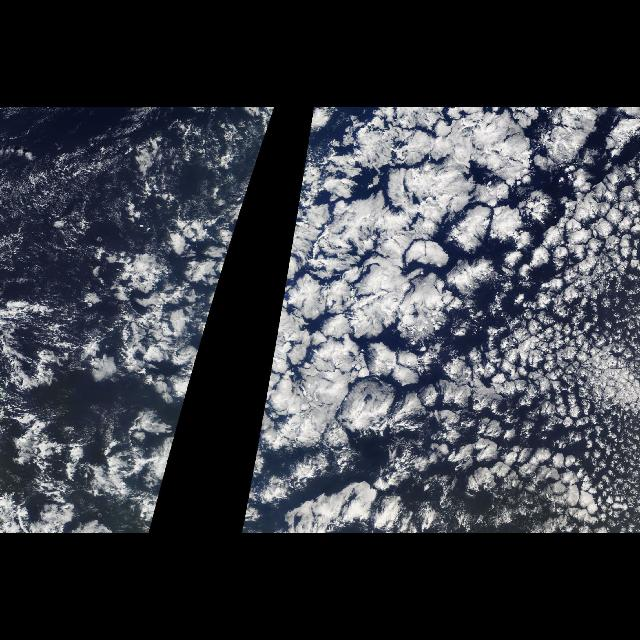Flower: (243, 113, 639, 531), (214, 116, 274, 300)
